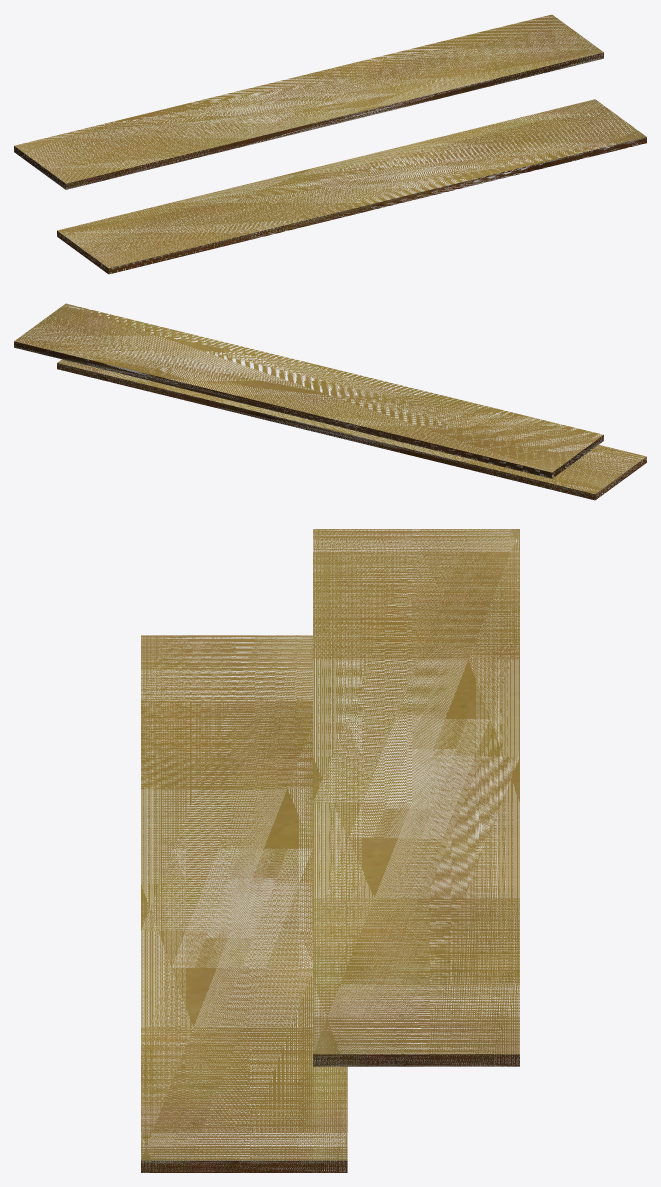
The model's file is boards_before_bedroom.dae.
3 views of the same model, one above another, from view 1: azimuth 30°, elevation 25°; view 2: azimuth 150°, elevation 25°; view 3: azimuth 270°, elevation 25° (orthographic). The views are drawn at different scales.
Visible parts, largest first — view 1: SketchUp (×4); view 2: SketchUp (×4); view 3: SketchUp (×4).
Part boxes in pixels (bbox=[...]): SketchUp (×4): bbox=[14, 14, 646, 274]; SketchUp (×4): bbox=[14, 303, 646, 500]; SketchUp (×4): bbox=[141, 529, 519, 1172].
Bounding box in the file's own units: 1.8 × 0.549 × 0.1896.
Materials: 3 (2 with a texture image).
